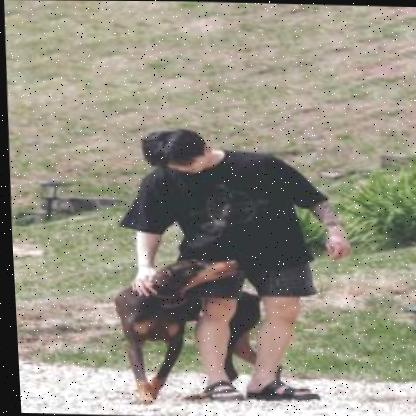dog: (114, 257, 244, 405)
